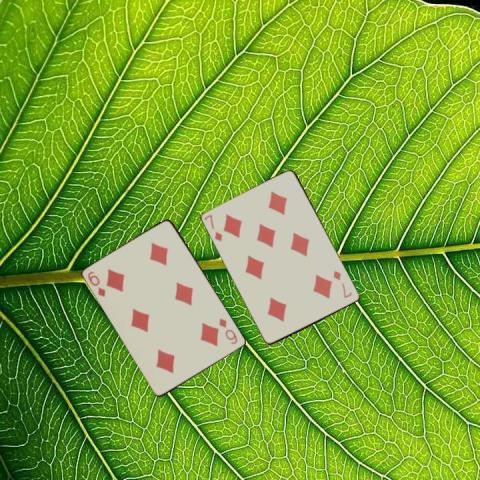6d: (216, 316, 239, 346), (85, 268, 107, 299)
7d: (330, 268, 353, 300), (201, 212, 224, 244)
